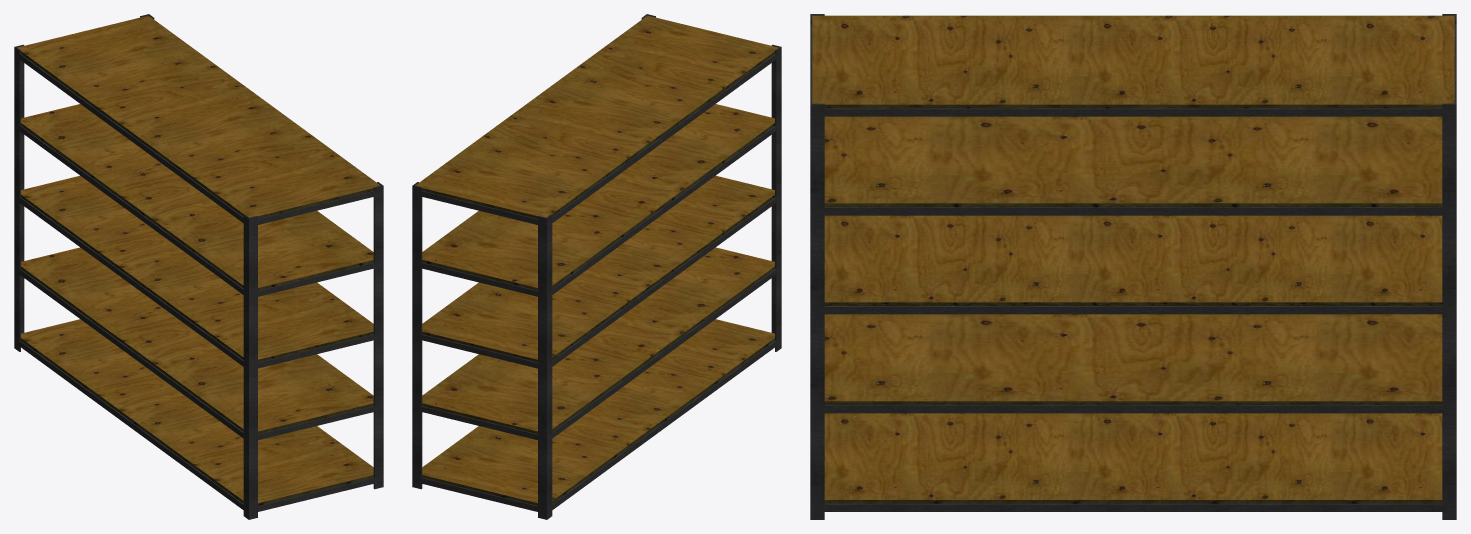
Rendered from estanteria1.glb.
The picture shows the model from 3 angles, left to right: view 1: azimuth 30°, elevation 25°; view 2: azimuth 150°, elevation 25°; view 3: azimuth 270°, elevation 25°; orthographic projection. The views are drawn at different scales.
Parts seen in each view (by area): view 1: Mesh1_Wood_Plywood_Knots_0, Model; view 2: Mesh1_Wood_Plywood_Knots_0, Model; view 3: Mesh1_Wood_Plywood_Knots_0, Model.
Part boxes in pixels (x1,y1,x2,y2): Mesh1_Wood_Plywood_Knots_0: (17,15,380,502); Model: (14,14,383,519); Mesh1_Wood_Plywood_Knots_0: (415,15,778,502); Model: (412,14,781,519); Mesh1_Wood_Plywood_Knots_0: (812,15,1454,499); Model: (810,14,1456,519).
Bounding box in the file's own units: 104 × 223 × 314.
Materials: 4 (4 with a texture image).
